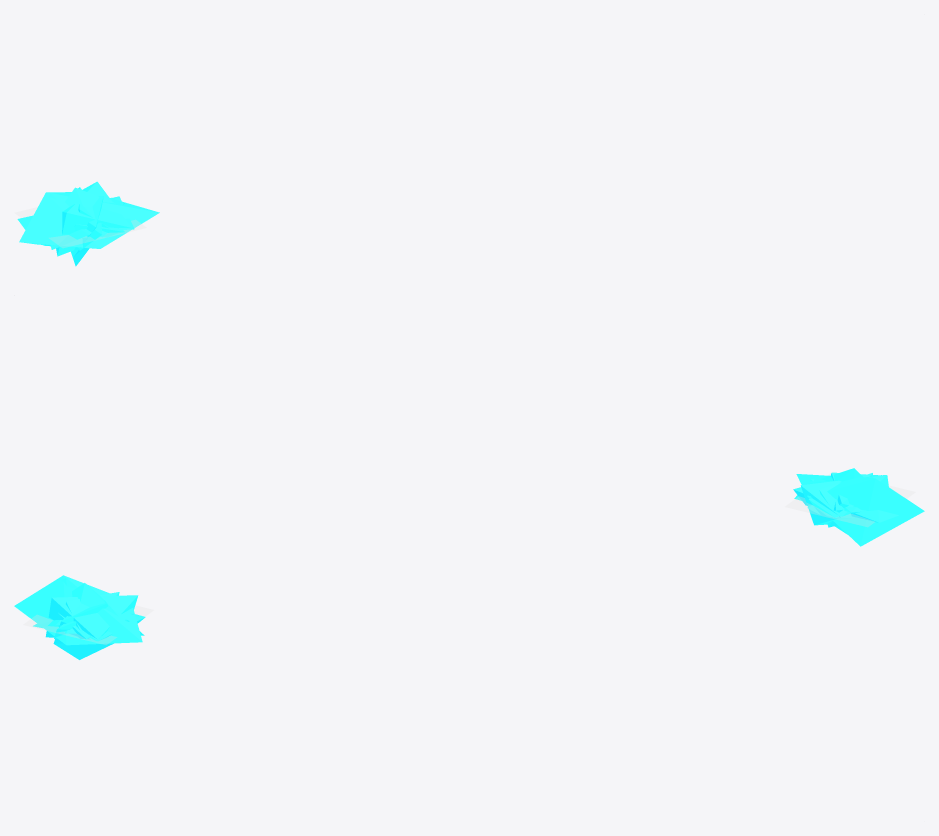
Rendered from mneme-shards.glb.
The picture shows the model from 3 angles, top to bottom: view 1: azimuth 30°, elevation 25°; view 2: azimuth 150°, elevation 25°; view 3: azimuth 330°, elevation 25°; orthographic projection.
Parts seen in each view (by area): view 1: Crystal_Source_0.001, Crystal_Source_3.002; view 2: Crystal_Source_0.001, Crystal_Source_3.002; view 3: Crystal_Source_0.001, Crystal_Source_3.002, Crystal_Source_2.
Boxes of the visible parts, x1=… form: Crystal_Source_0.001: x1=19, y1=192, x2=159, y2=248; Crystal_Source_3.002: x1=56, y1=181, x2=131, y2=256; Crystal_Source_0.001: x1=796, y1=474, x2=924, y2=546; Crystal_Source_3.002: x1=800, y1=475, x2=888, y2=525; Crystal_Source_0.001: x1=14, y1=575, x2=142, y2=645; Crystal_Source_3.002: x1=45, y1=595, x2=138, y2=639; Crystal_Source_2: x1=53, y1=600, x2=113, y2=659.
Size of the model in its own units: 10.81 by 0.8677 by 1.05.
